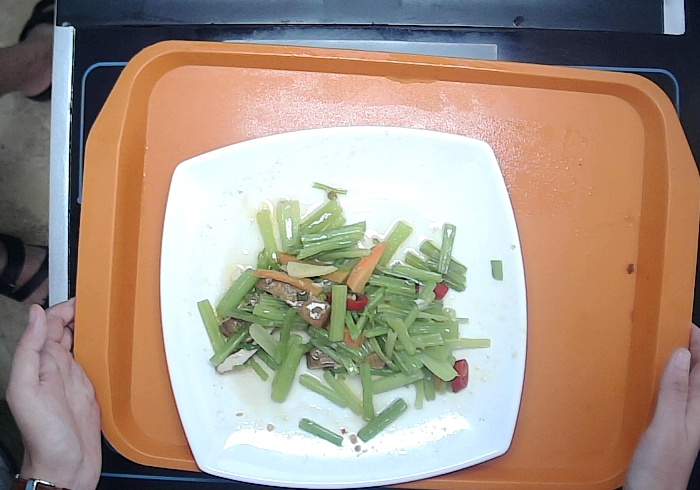ZNLD-Bai_Fang_Pan: (157, 124, 529, 490)
